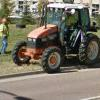Tractor: (11, 7, 100, 81)
